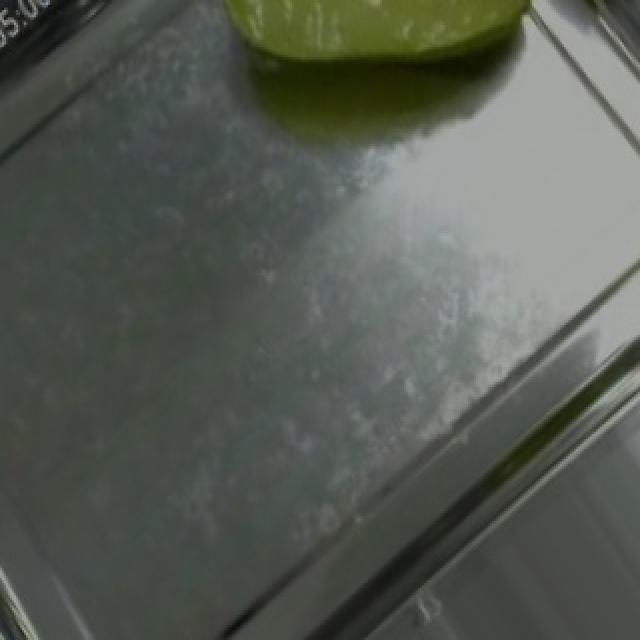fruit: (186, 0, 560, 156)
